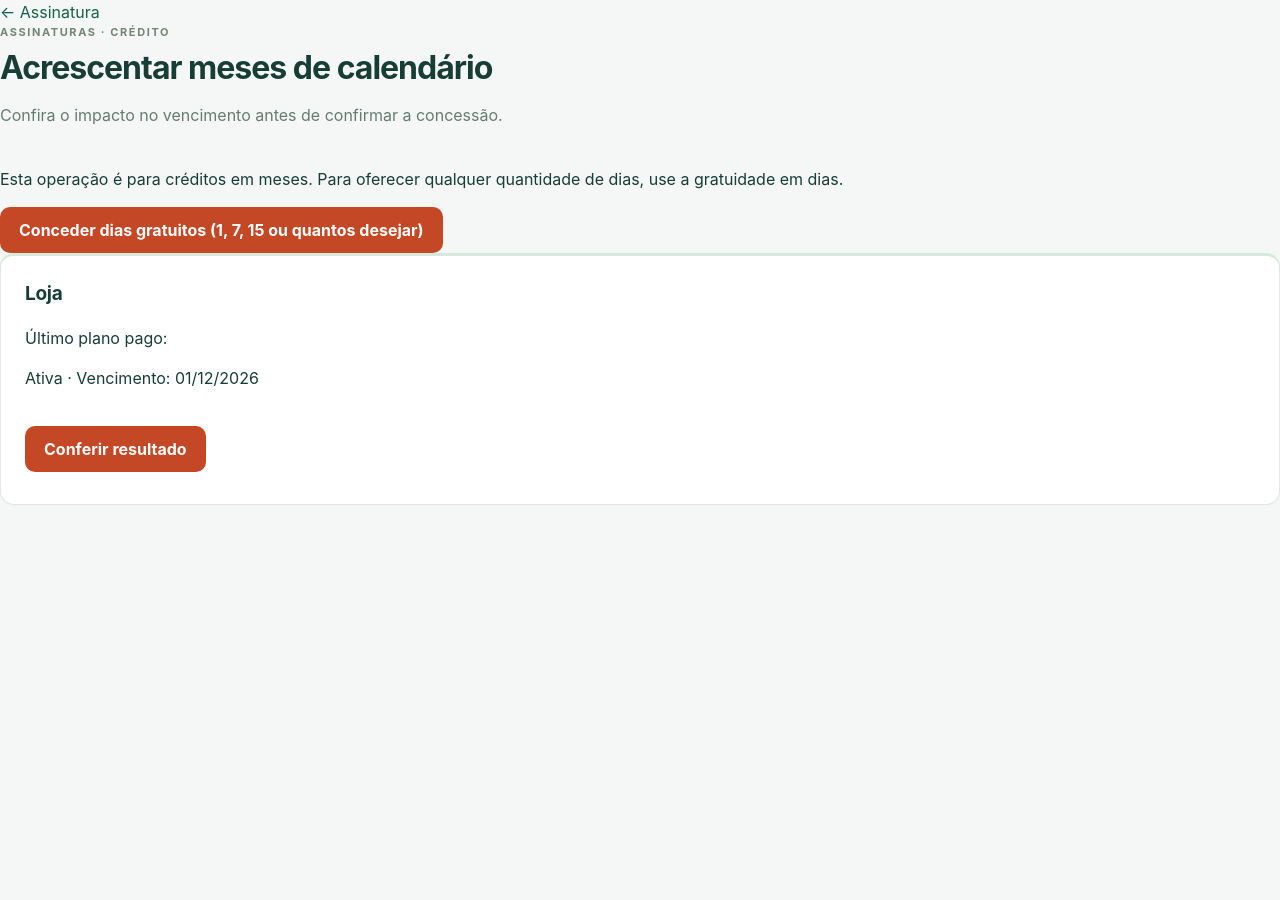
Test: Operações globais › exibe prévia antes de conceder meses
Check: the text "Ativa · Vencimento: 01/12/2026" is shown, box 25,368 -> 259,388
Click the button "Conferir resultado".
click(115, 449)  # box 25,426 -> 206,472
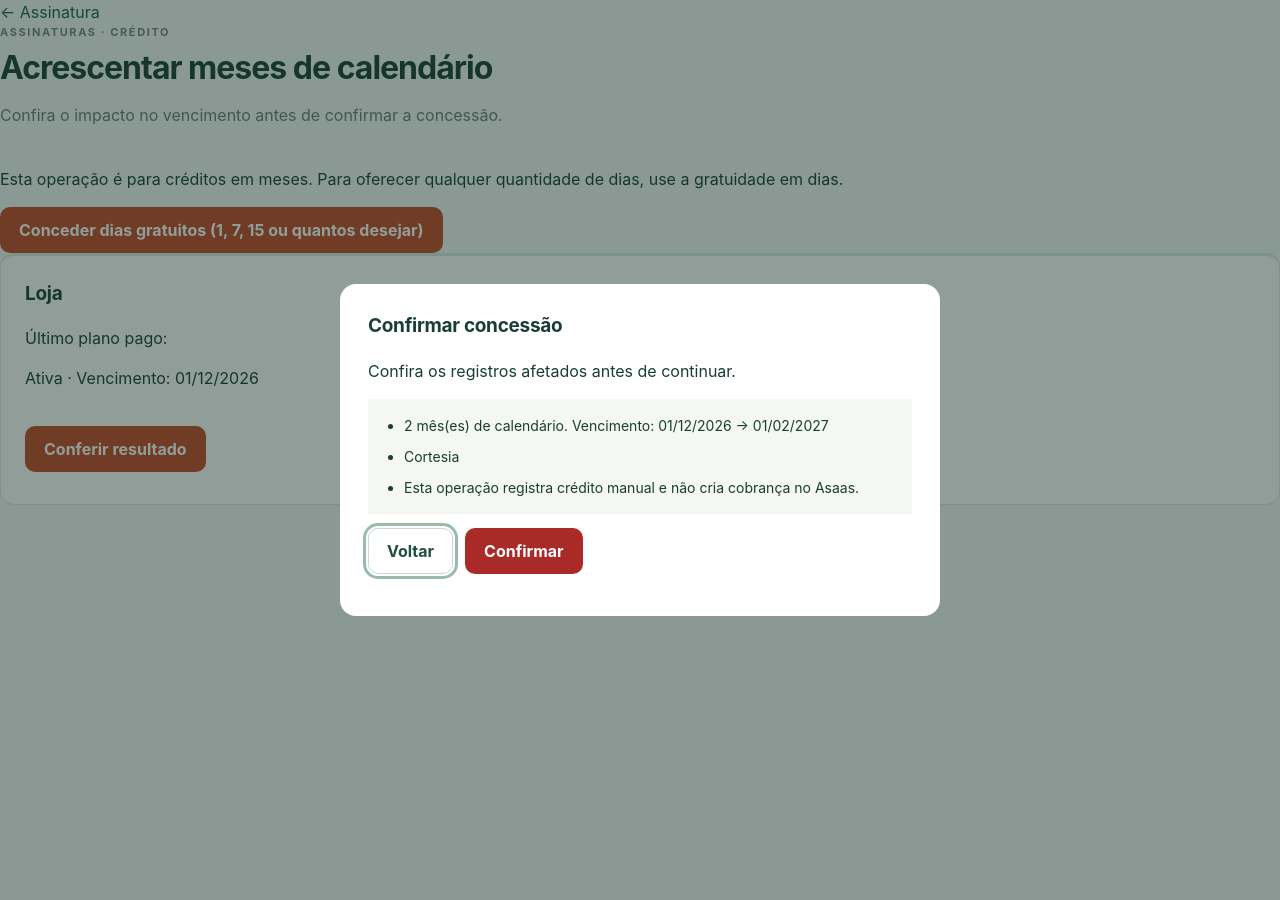
Check: the list item "2 mês(es) de calendário. Vencimento: 01/12/2026 → 01/02/2027" is shown, box 404,415 -> 896,436
Click the button "Confirmar".
click(524, 551)  # box 465,528 -> 583,574
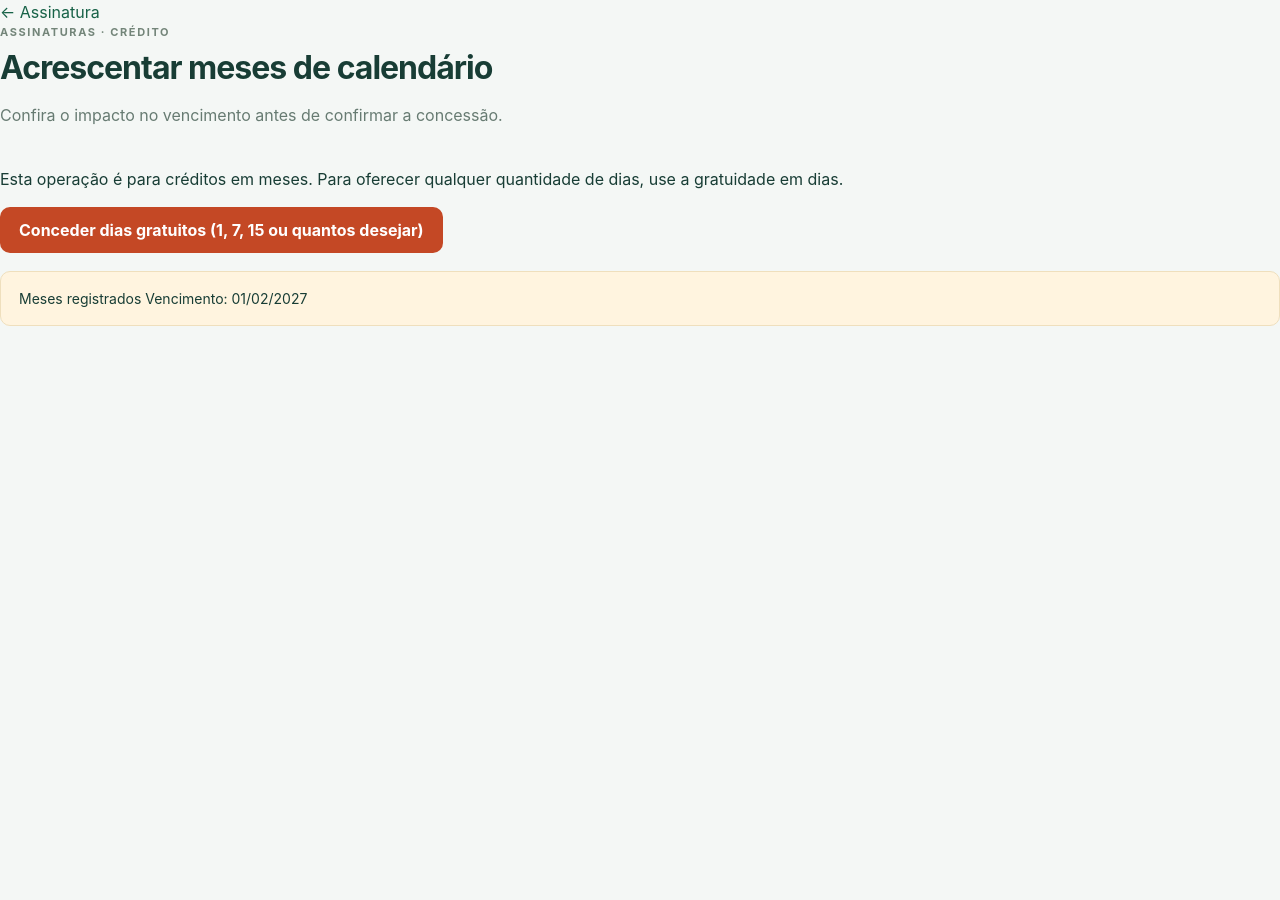
Check: the text "Meses registrados Vencimento: 01/02/2027" is shown, box 0,271 -> 1279,326
